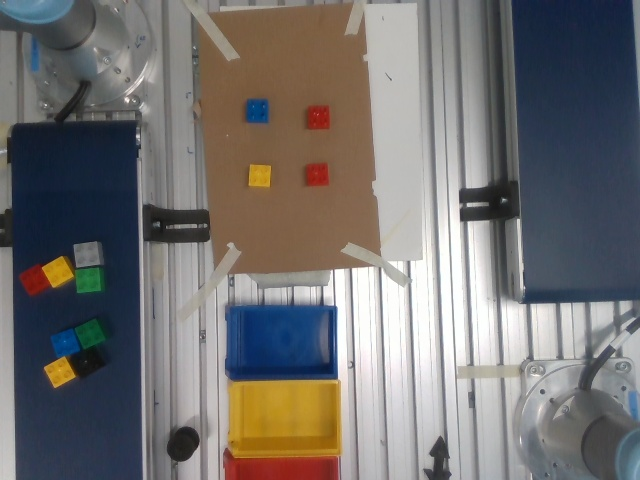duplo_4_blue: (236, 91, 277, 127)
duplo_4_red: (301, 101, 339, 138), (298, 158, 341, 189)
duplo_4_yellow: (244, 155, 281, 199)
